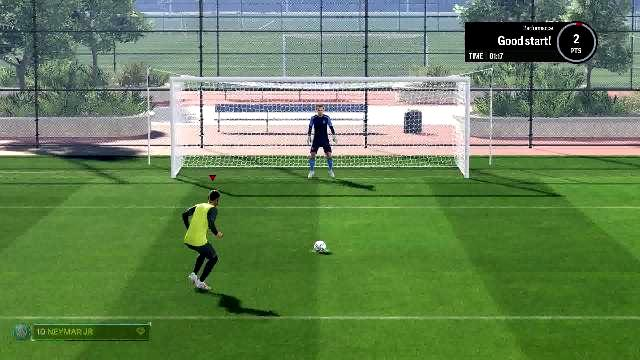bottom-left: (177, 132, 271, 178)
bottom-right: (366, 132, 460, 178)
center-down: (272, 131, 368, 177)
center-up: (272, 82, 370, 130)
football: (314, 240, 328, 252)
goalkeeper: (305, 104, 343, 180)
player: (178, 186, 230, 296)
top-left: (174, 84, 270, 132)
top-right: (370, 84, 464, 132)
